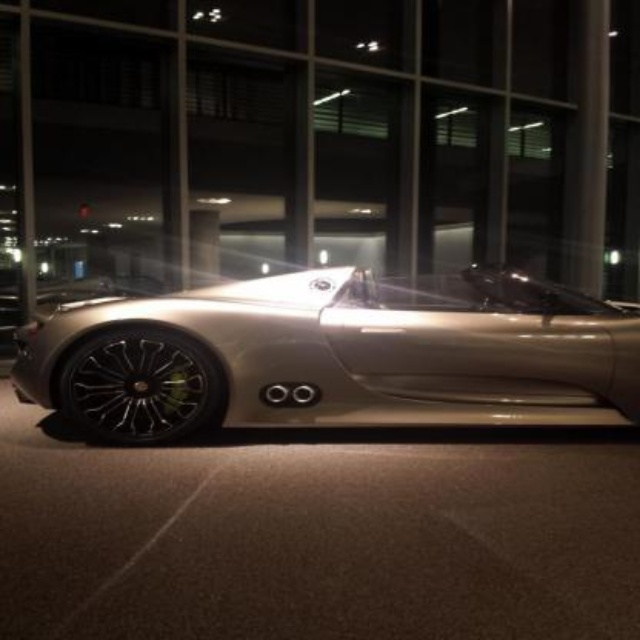Car: (12, 262, 639, 453)
